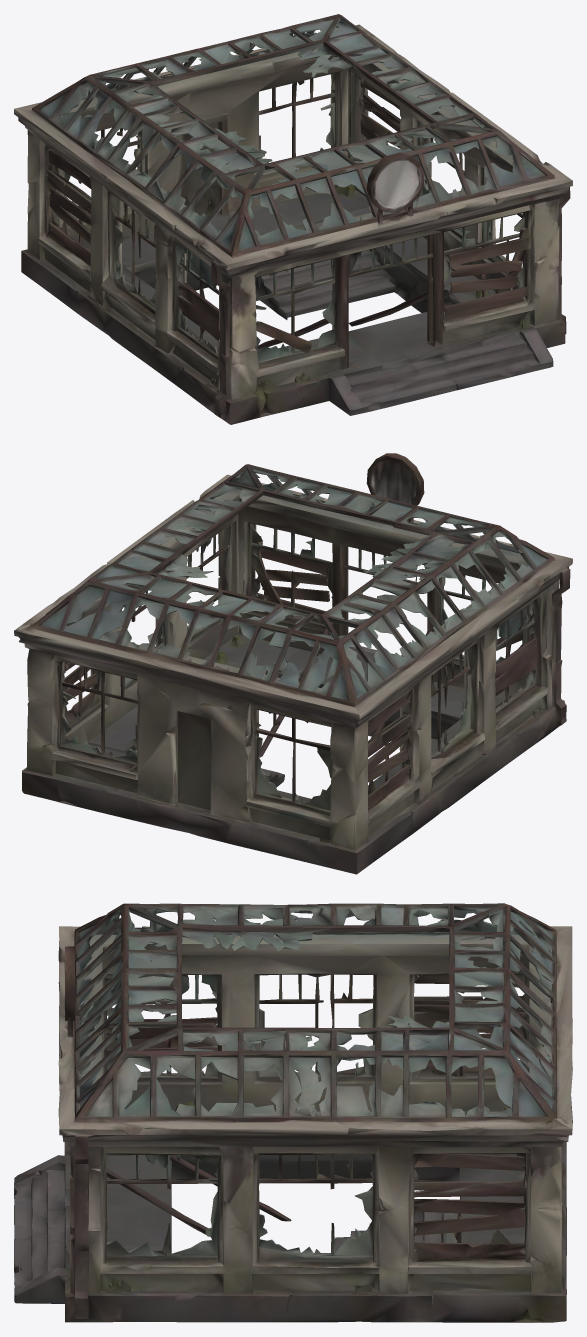
File: diner_idle.glb
The picture shows the model from 3 angles, top to bottom: view 1: azimuth 30°, elevation 25°; view 2: azimuth 150°, elevation 25°; view 3: azimuth 270°, elevation 25°; orthographic projection. The views are drawn at different scales.
Visible parts, largest first — view 1: tripo_node_5bd27d54-748c-4d11-b5c0-96d853133deb; view 2: tripo_node_5bd27d54-748c-4d11-b5c0-96d853133deb; view 3: tripo_node_5bd27d54-748c-4d11-b5c0-96d853133deb.
Boxes of the visible parts, box(x1,y1,x2,y2) form: tripo_node_5bd27d54-748c-4d11-b5c0-96d853133deb: box(14, 14, 572, 424); tripo_node_5bd27d54-748c-4d11-b5c0-96d853133deb: box(14, 453, 572, 874); tripo_node_5bd27d54-748c-4d11-b5c0-96d853133deb: box(14, 903, 572, 1322).
Bounding box in the file's own units: 9.99 × 6.69 × 11.38.
1 material, 1 textured.
